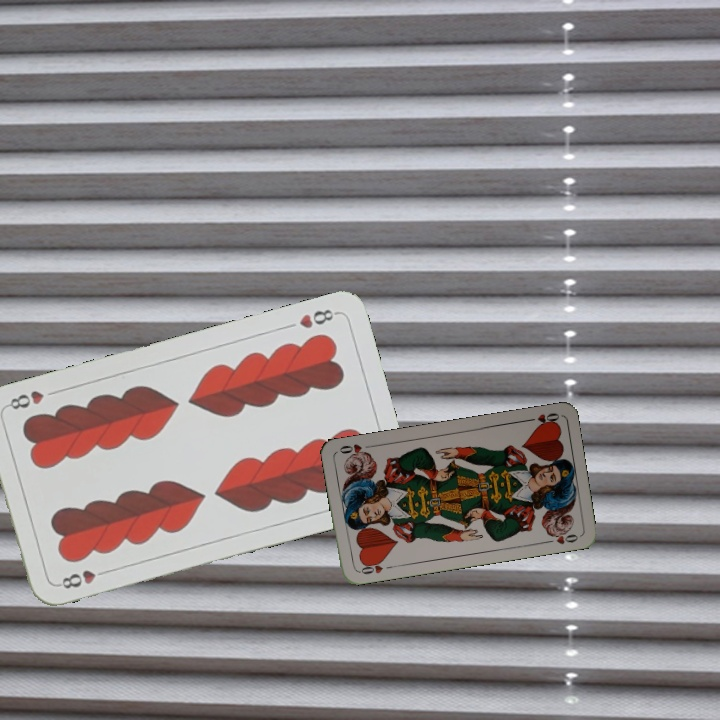H8: (54, 565, 112, 592), (295, 305, 341, 331)
HO: (354, 556, 395, 577), (521, 409, 562, 429)
